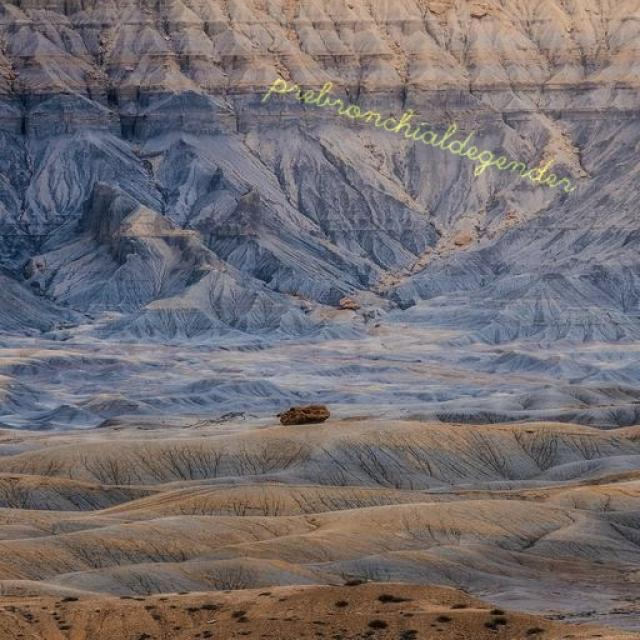watermark: (262, 61, 599, 200)
